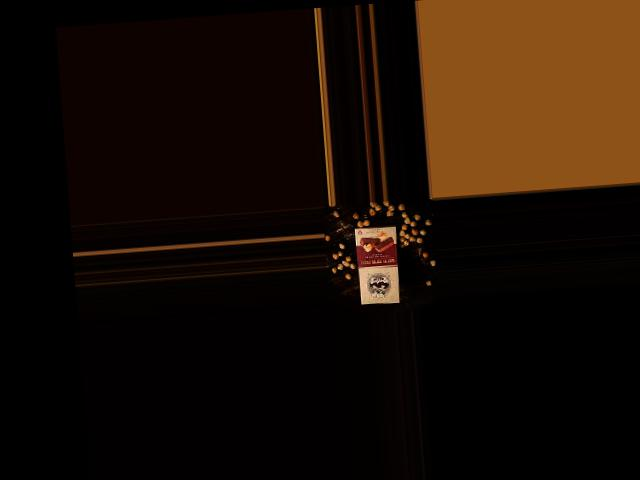chocolate: (352, 222, 405, 307)
